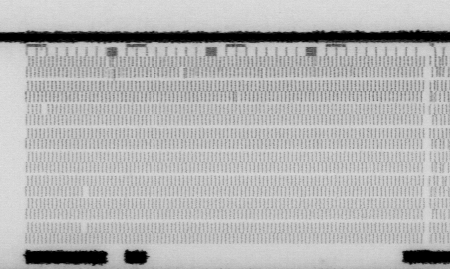Broken hole: (78, 221, 91, 236), (39, 102, 51, 114), (81, 186, 91, 198)
Oblique printing: (429, 53, 450, 233), (104, 56, 121, 80), (176, 67, 191, 80), (230, 91, 244, 104), (257, 66, 269, 80)
